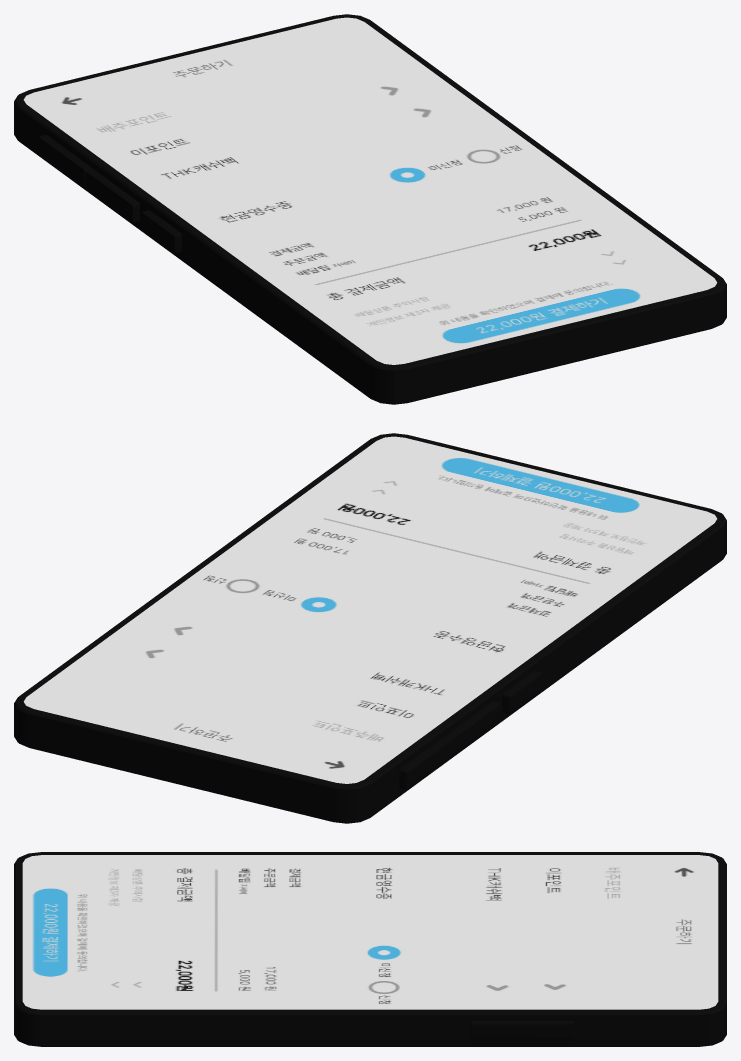
The model's file is EdenP_5000won.fbx.
The picture shows the model from 3 angles, top to bottom: view 1: azimuth 30°, elevation 25°; view 2: azimuth 150°, elevation 25°; view 3: azimuth 270°, elevation 25°; orthographic projection. The views are drawn at different scales.
Parts seen in each view (by area): view 1: EdenPhone_5000won; view 2: EdenPhone_5000won; view 3: EdenPhone_5000won.
Boxes of the visible parts, <box> form: EdenPhone_5000won: <box>14,14,726,404</box>; EdenPhone_5000won: <box>14,433,726,823</box>; EdenPhone_5000won: <box>14,852,726,1046</box>.
Size of the model in its own units: 0.00458 by 0.000554 by 0.00822.
4 materials, 3 textured.
